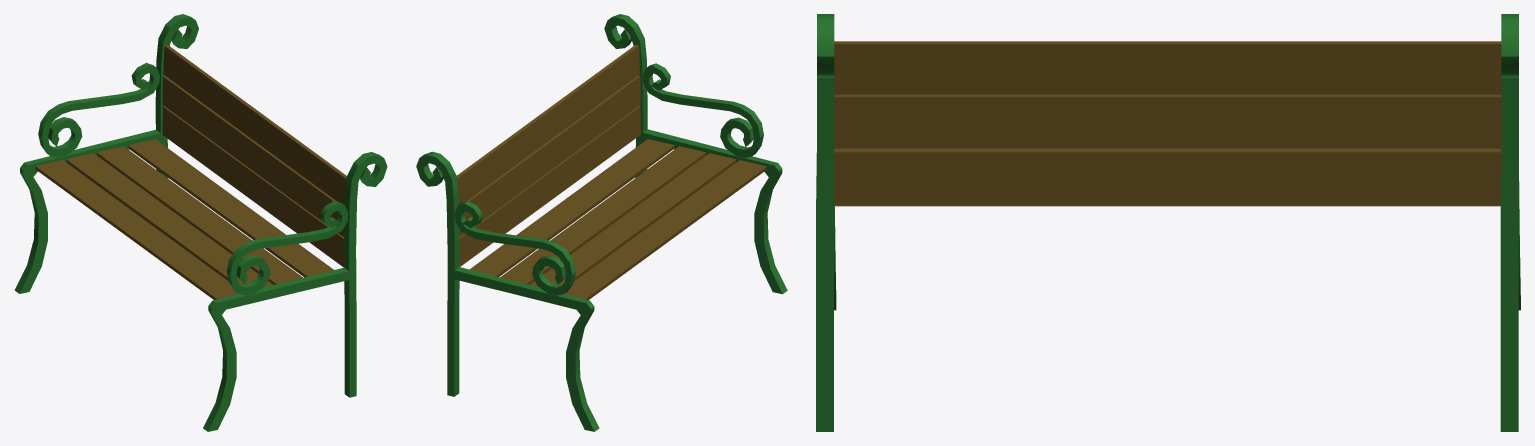
The model's file is Bench.fbx.
The picture shows the model from 3 angles, left to right: view 1: azimuth 30°, elevation 25°; view 2: azimuth 150°, elevation 25°; view 3: azimuth 270°, elevation 25°; orthographic projection. The views are drawn at different scales.
Visible parts, largest first — view 1: pCube241; view 2: pCube241; view 3: pCube241.
Boxes of the visible parts, x1,y1,x2,y2 form: pCube241: (14, 14, 387, 431); pCube241: (416, 14, 787, 431); pCube241: (816, 14, 1520, 431).
Size of the model in its own units: 1.08 by 1.36 by 2.02.
